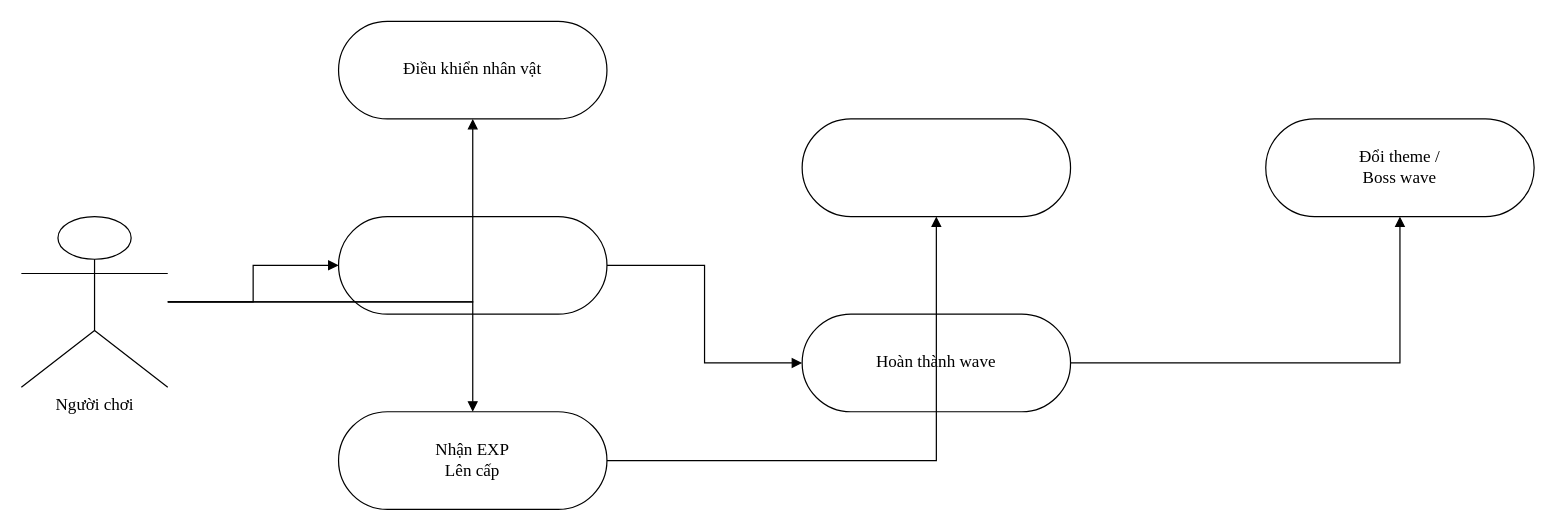
Some shapes in this 1556 by 531 pixel diagram are drawn without their labels. The shapes that lost their labels are listed below. From the top down, each one's box as (x1, y1, x2, y2) in pixels, then its label:
(801, 118, 1071, 217): Chọn buff
(337, 215, 607, 314): Chiến đấu tự động
